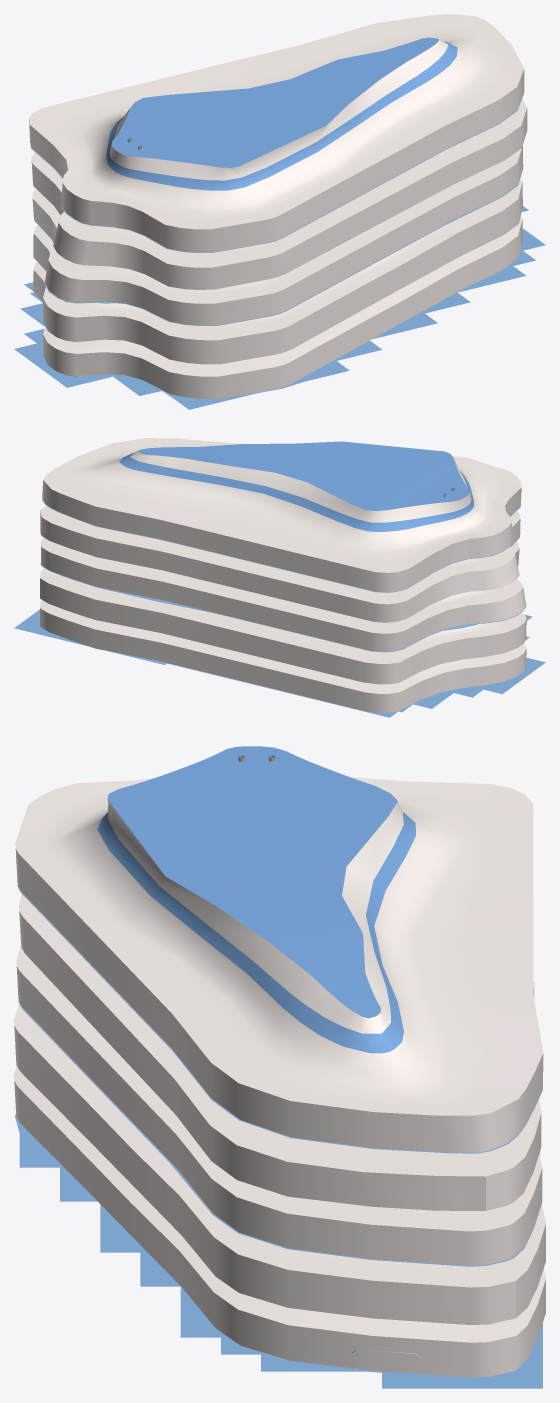
File: SM_Lobby.fbx
The picture shows the model from 3 angles, top to bottom: view 1: azimuth 30°, elevation 25°; view 2: azimuth 150°, elevation 25°; view 3: azimuth 270°, elevation 25°; orthographic projection. The views are drawn at different scales.
Visible parts, largest first — view 1: BLD_Lobby, PRP_Floor, PRP_floor_B, PRP_Sockets; view 2: BLD_Lobby, PRP_Floor, PRP_Sockets, PRP_floor_B; view 3: BLD_Lobby, PRP_Floor, PRP_floor_B, PRP_Sockets.
Part boxes in pixels (x1=…): BLD_Lobby: x1=29, y1=14, x2=527, y2=398; PRP_Floor: x1=14, y1=206, x2=545, y2=409; PRP_floor_B: x1=30, y1=92, x2=524, y2=325; PRP_Sockets: x1=44, y1=124, x2=501, y2=398; BLD_Lobby: x1=40, y1=438, x2=526, y2=712; PRP_Floor: x1=14, y1=609, x2=545, y2=717; PRP_Sockets: x1=48, y1=508, x2=524, y2=712; PRP_floor_B: x1=40, y1=499, x2=526, y2=652; BLD_Lobby: x1=14, y1=746, x2=545, y2=1376; PRP_Floor: x1=15, y1=1114, x2=542, y2=1388; PRP_floor_B: x1=17, y1=882, x2=542, y2=1266; PRP_Sockets: x1=238, y1=1119, x2=514, y2=1377.
Bounding box in the file's own units: 13800 × 5102 × 7932.
